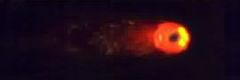keyhole: (166, 28, 183, 46)
